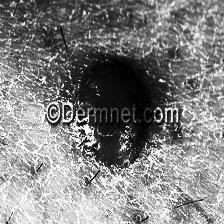Benign Marking or Mole: (75, 59, 151, 167)
